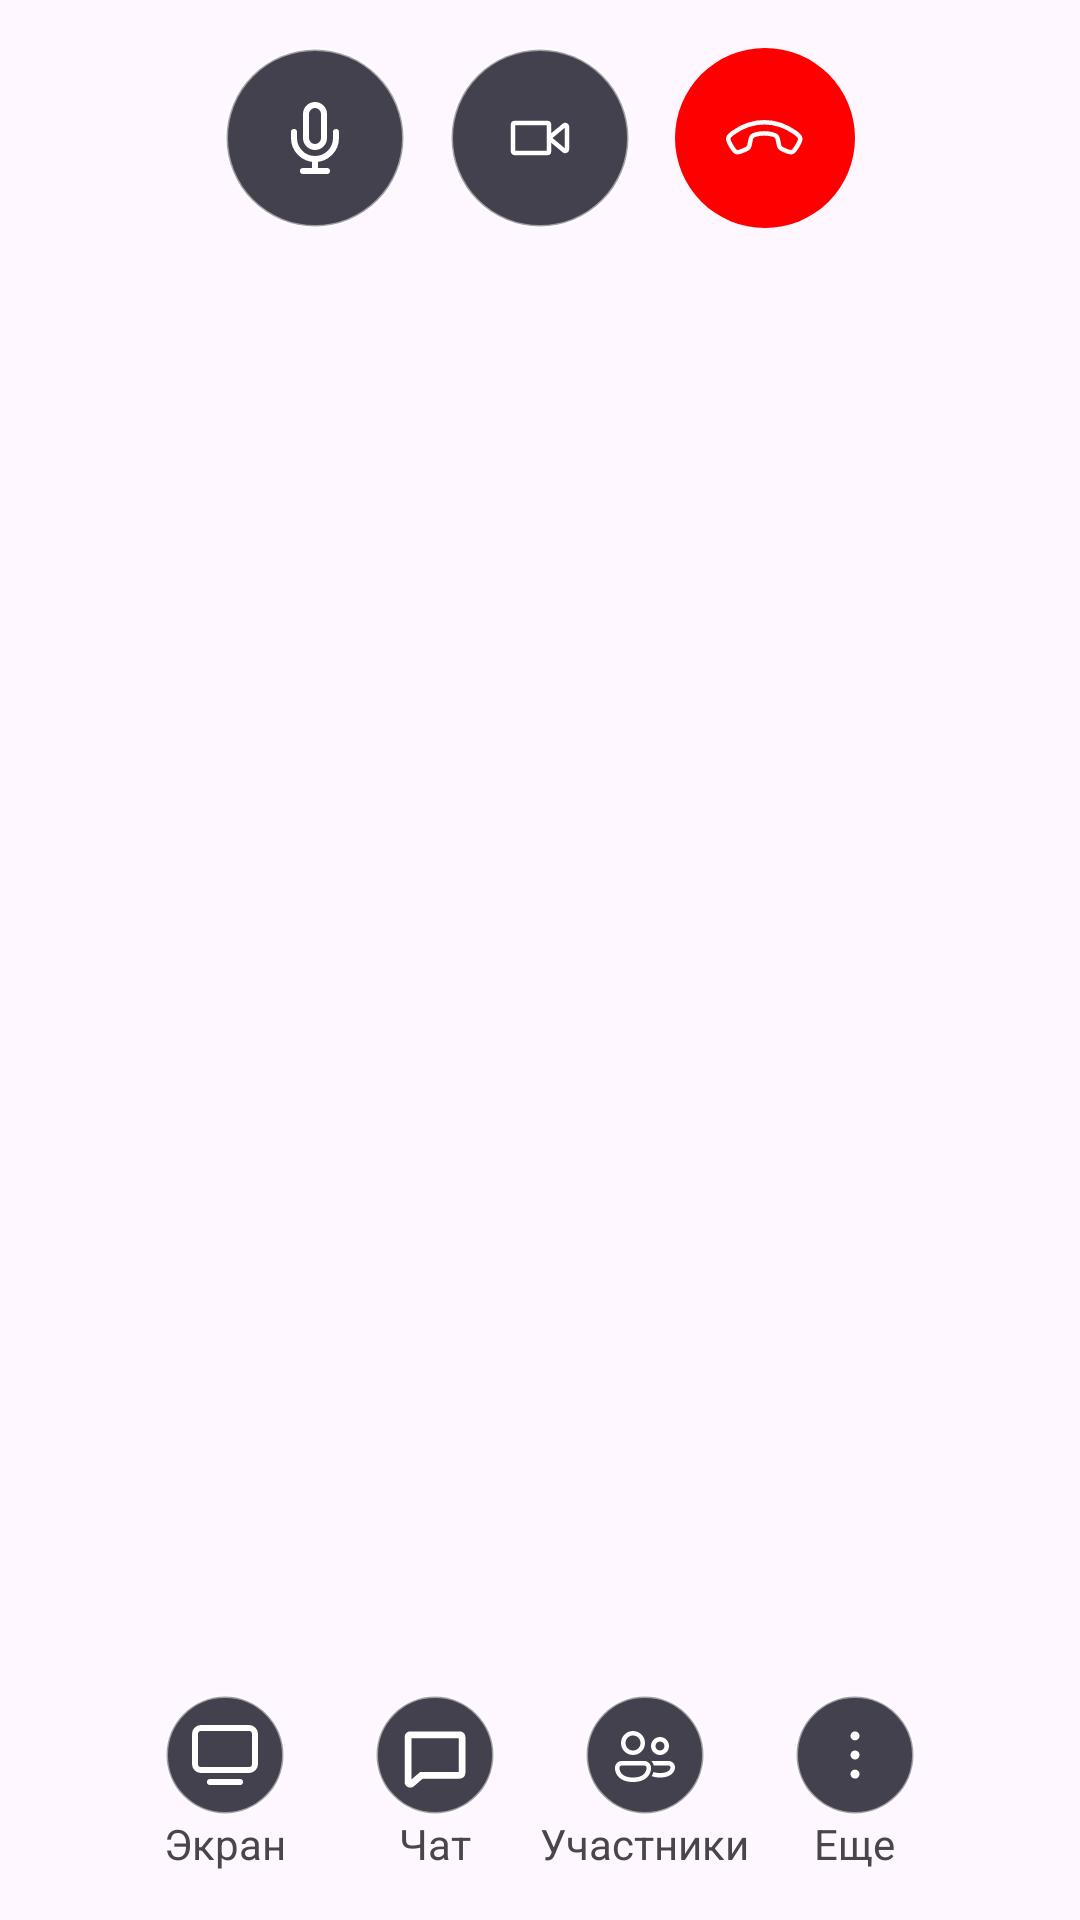

Icons on this 1080 x 1920 Android screen, each with the point to tap as (x,y):
iconstack call end: (765,138)
iconstack io mic: (315,138)
iconstack io tv minimal: (225,1755)
iconstack io video camera: (540,138)
